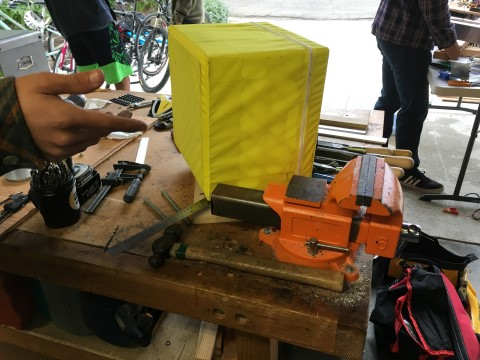cube: (167, 22, 330, 203)
